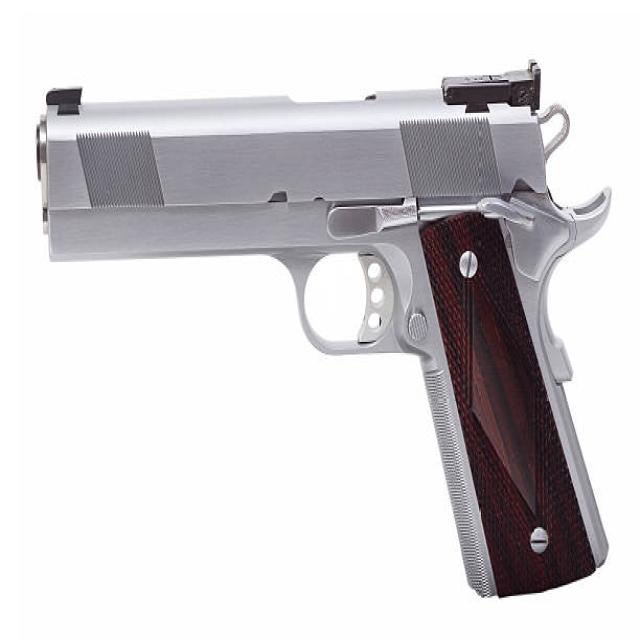pistol: (29, 54, 621, 606)
